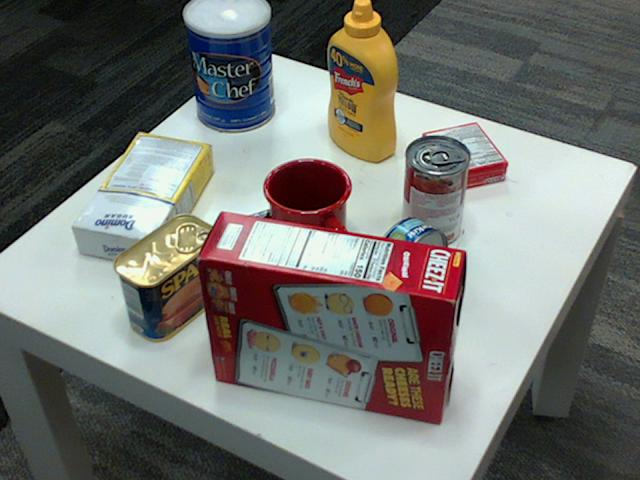cracker_box: (196, 210, 462, 421)
gelatin_box: (422, 122, 509, 190)
large_marker: (197, 200, 302, 249)
master_chef_can: (182, 0, 273, 131)
mug: (262, 155, 353, 263)
mustard_bottle: (327, 0, 396, 161)
potted_meat_can: (114, 213, 218, 341)
sugar_box: (72, 130, 213, 263)
tomato_soup_can: (401, 135, 469, 246)
tuna_fish_can: (368, 216, 447, 304)
